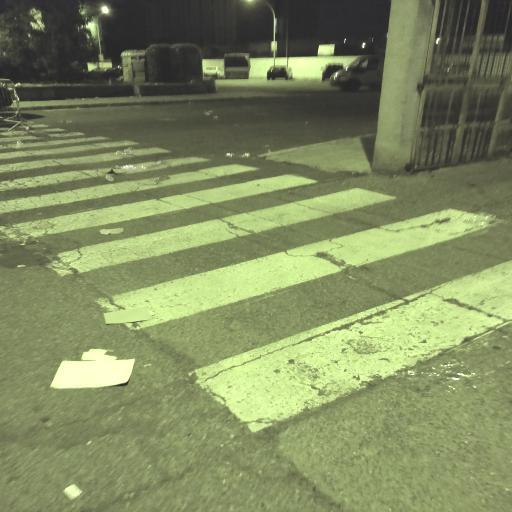crosswalk: (28, 182, 512, 336)
